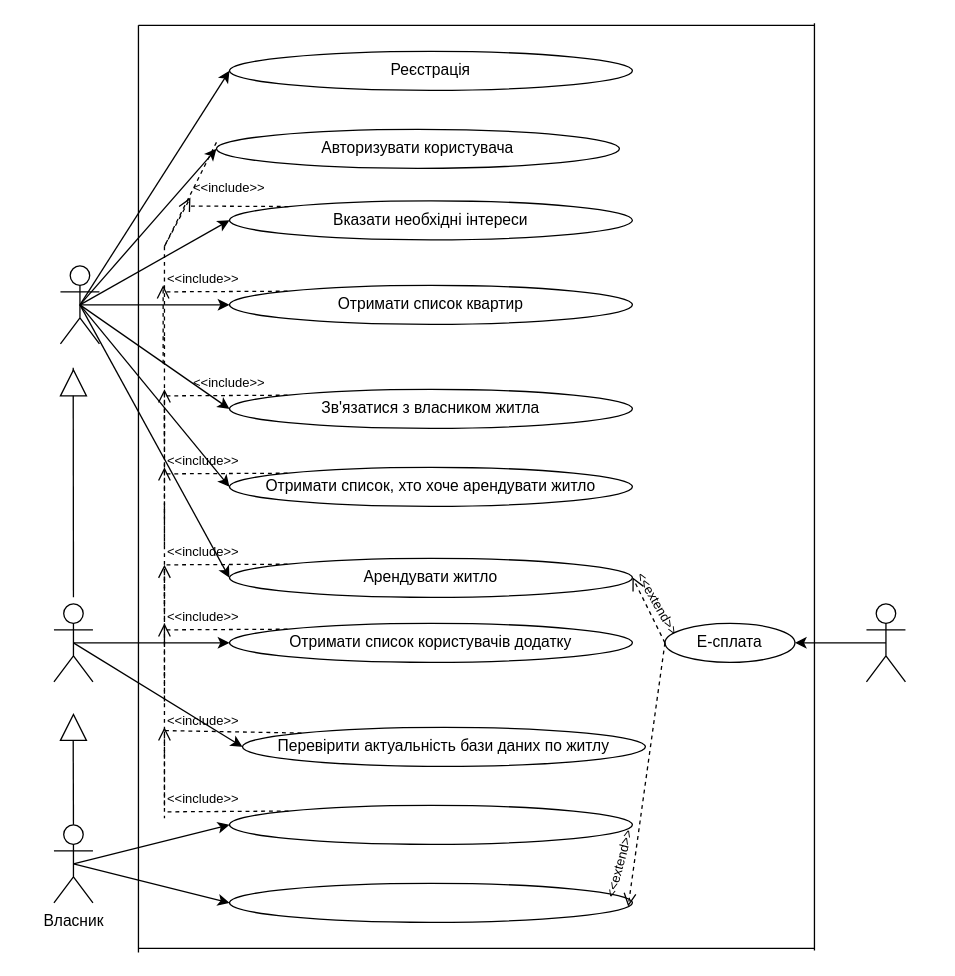
This 955x976 diagram has some shape labels left out. Each missing label, with the centre of its shape:
"Адміністратор" belongs at pixel 73 642.
"Отримати плату за аренду" belongs at pixel 430 902.
"Отримати список зданих квартир" belongs at pixel 430 824.
"Сервіс E-Pay" belongs at pixel 885 642.
"Споживач" belongs at pixel 79 304.
